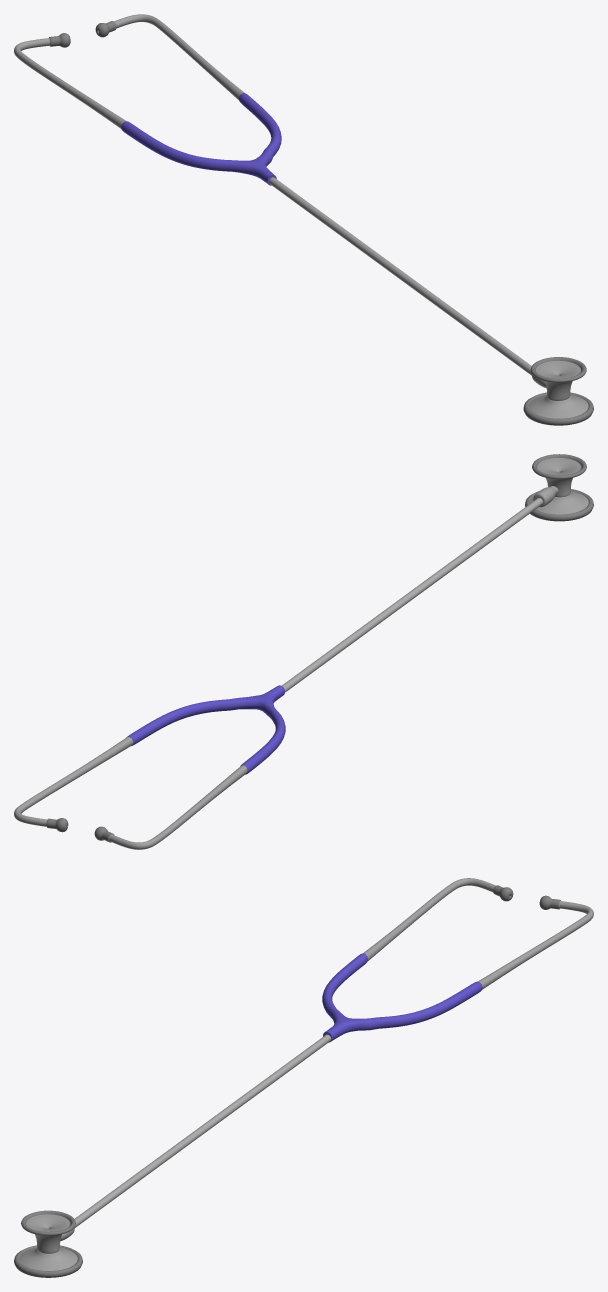
Rendered from HoseToTestCloth.fbx.
3 views of the same model, one above another, from view 1: azimuth 30°, elevation 25°; view 2: azimuth 150°, elevation 25°; view 3: azimuth 330°, elevation 25° (orthographic). The views are drawn at different scales.
Parts seen in each view (by area): view 1: Arms, End, Hose; view 2: Arms, End, Hose; view 3: Arms, End, Hose.
Boxes of the visible parts, x1,y1,x2,y2 form: Arms: [14, 14, 281, 185]; End: [523, 357, 593, 425]; Hose: [269, 177, 532, 375]; Arms: [14, 685, 285, 849]; End: [525, 454, 593, 521]; Hose: [281, 498, 542, 692]; Arms: [322, 878, 593, 1042]; End: [14, 1210, 82, 1277]; Hose: [74, 1034, 331, 1227].
Size of the model in its own units: 123 by 36.51 by 756.
